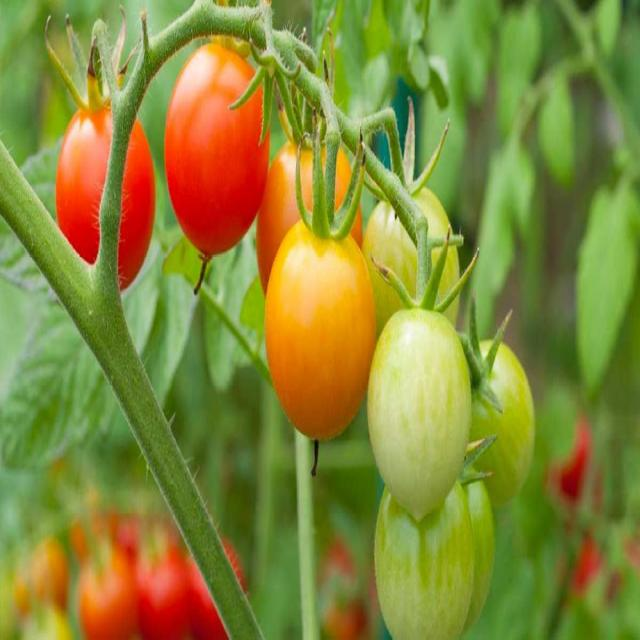level 2: (370, 308, 474, 528), (378, 463, 477, 640), (446, 337, 538, 521), (418, 465, 501, 634)
level 3: (361, 182, 465, 370)
level 4: (259, 217, 379, 438)
level 5: (258, 136, 366, 331)
level 6: (168, 38, 267, 258), (54, 101, 156, 294)
